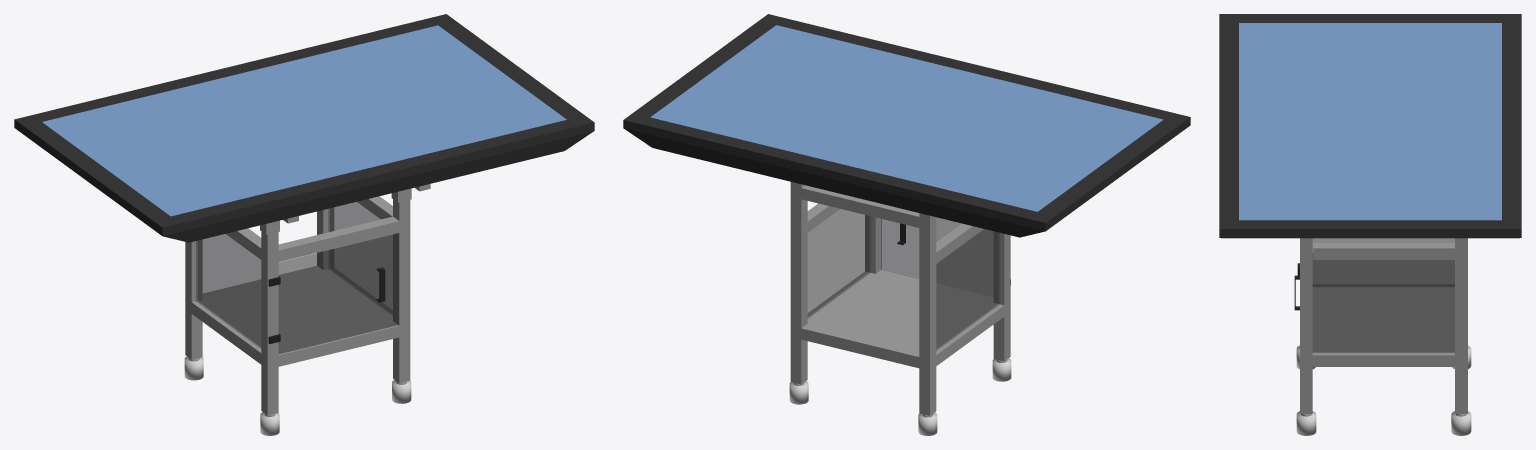
File: TacTile-2.fbx
The picture shows the model from 3 angles, left to right: view 1: azimuth 30°, elevation 25°; view 2: azimuth 150°, elevation 25°; view 3: azimuth 270°, elevation 25°; orthographic projection. The views are drawn at different scales.
Visible parts, largest first — view 1: OmegaDesk-Display.002, OmegaDesk-Base-2017, Shelf-SidePanel.002, Shelf-SidePanel.003, OmegaDesk-Wheels; view 2: OmegaDesk-Display.002, OmegaDesk-Base-2017, Shelf-SidePanel.003, Shelf-SidePanel.002, OmegaDesk-Wheels; view 3: OmegaDesk-Display.002, OmegaDesk-Base-2017, Shelf-SidePanel.003, OmegaDesk-Wheels.
Part boxes in pixels (x1,y1,x2,y2): OmegaDesk-Display.002: (14, 14, 594, 242); OmegaDesk-Base-2017: (185, 189, 410, 415); Shelf-SidePanel.002: (278, 233, 398, 353); Shelf-SidePanel.003: (196, 202, 392, 348); OmegaDesk-Wheels: (184, 356, 411, 435); OmegaDesk-Display.002: (623, 14, 1190, 237); OmegaDesk-Base-2017: (790, 182, 1010, 415); Shelf-SidePanel.003: (807, 209, 999, 350); Shelf-SidePanel.002: (881, 217, 993, 296); OmegaDesk-Wheels: (789, 358, 1011, 435); OmegaDesk-Display.002: (1219, 14, 1521, 238); OmegaDesk-Base-2017: (1300, 238, 1467, 413); Shelf-SidePanel.003: (1312, 238, 1454, 352); OmegaDesk-Wheels: (1296, 345, 1471, 435).
Size of the model in its own units: 1.58 by 0.9575 by 0.935.
